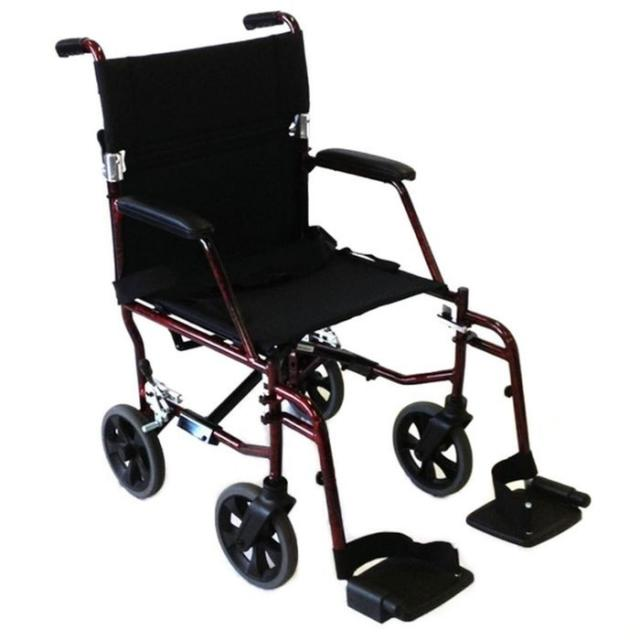wheelchair: (50, 4, 601, 632)
